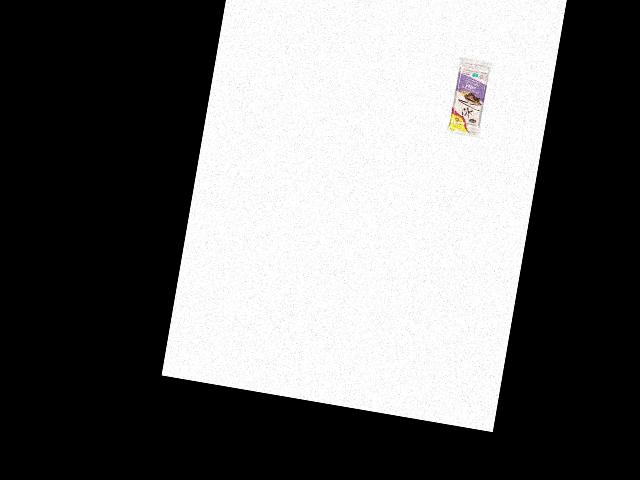chocolate: (444, 55, 495, 140)
